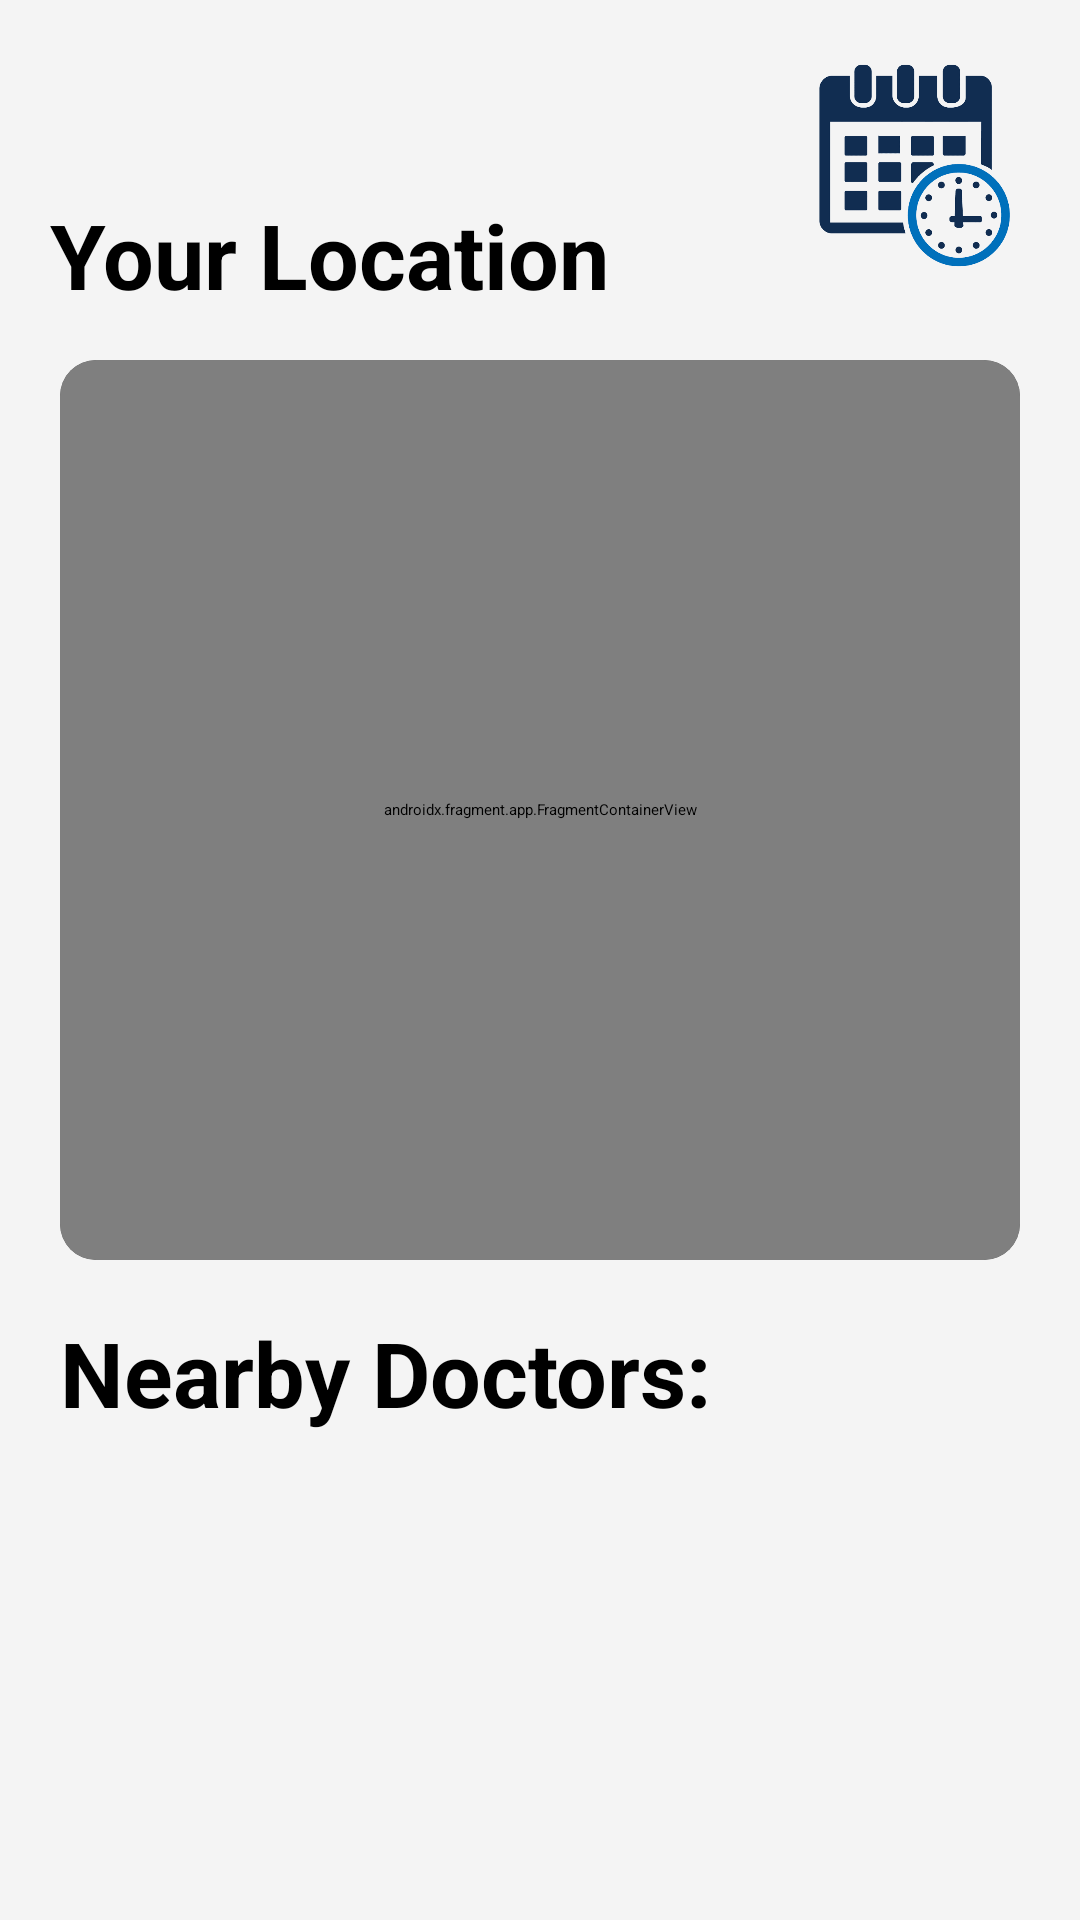

Screen size 1080x1920. Icon name, then its center in pixels as (x,y):
appointments: (914,165)
